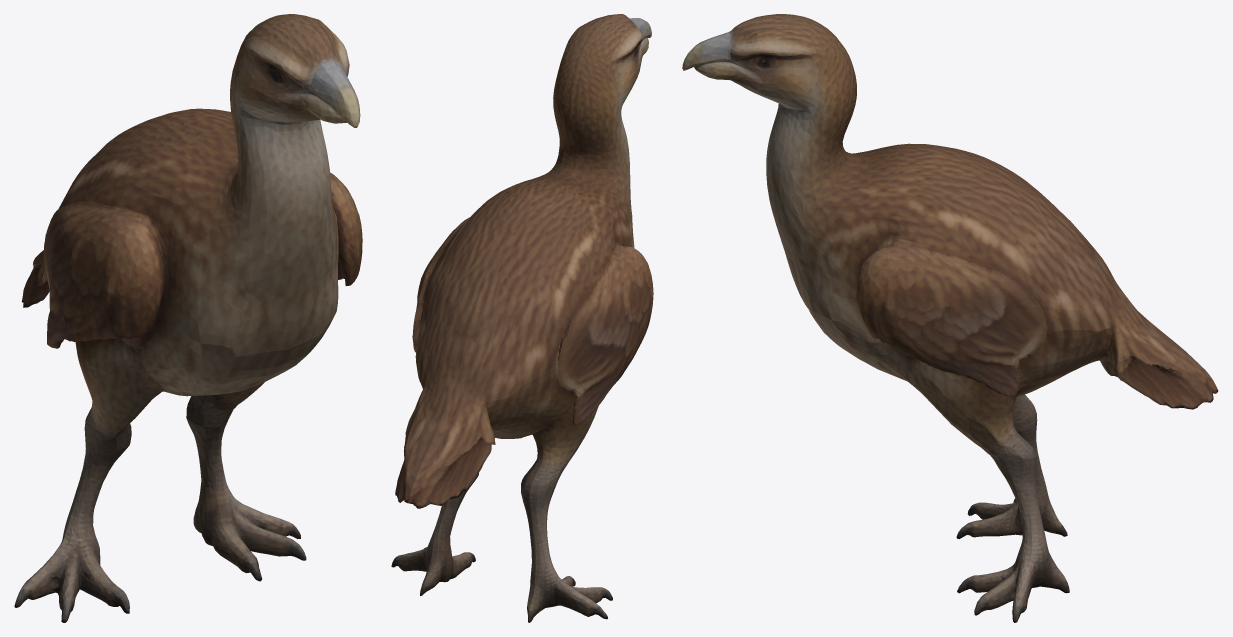
3 renders of one model, left to right at view 1: azimuth 30°, elevation 25°; view 2: azimuth 150°, elevation 25°; view 3: azimuth 270°, elevation 25°, orthographic. The views are drawn at different scales.
Parts seen in each view (by area): view 1: world; view 2: world; view 3: world.
Boxes of the visible parts, box(x1,y1,x2,y2) form: world: box(14, 14, 362, 622); world: box(391, 14, 653, 622); world: box(682, 14, 1218, 622).
Bounding box in the file's own units: 0.2286 × 0.5 × 0.4436.
Materials: 1 (1 with a texture image).
